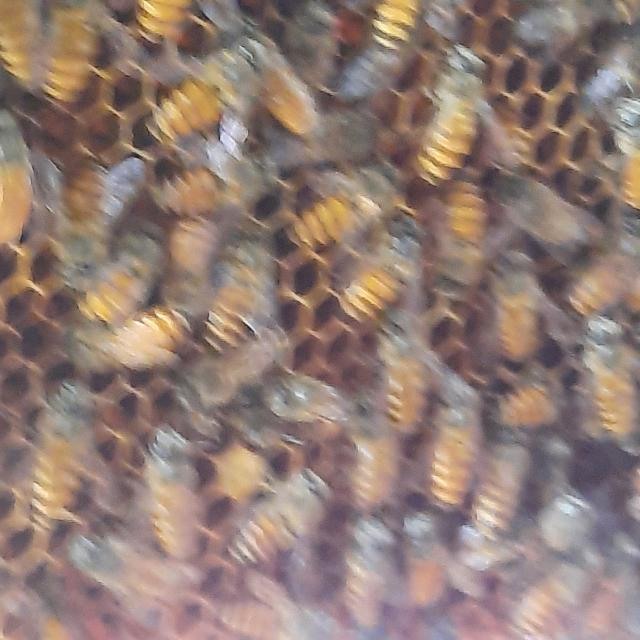honeybee: (414, 46, 493, 186), (153, 36, 259, 138), (234, 449, 322, 570), (73, 530, 197, 614), (39, 158, 125, 278), (490, 159, 591, 257), (238, 12, 314, 136), (276, 170, 396, 241), (144, 428, 208, 561), (238, 372, 356, 441), (28, 396, 92, 522), (335, 235, 423, 322), (212, 245, 276, 364), (584, 314, 640, 442), (188, 335, 284, 409), (70, 302, 190, 361), (523, 0, 640, 57), (78, 230, 160, 310), (498, 255, 554, 369), (398, 515, 456, 621), (42, 0, 98, 109), (340, 517, 396, 624), (476, 443, 542, 530), (427, 399, 481, 505), (505, 562, 582, 636), (171, 160, 263, 220), (576, 235, 639, 317), (349, 404, 400, 505), (226, 599, 342, 640), (0, 0, 48, 98), (435, 179, 483, 272), (378, 329, 424, 421), (497, 375, 562, 426), (135, 0, 198, 50), (373, 0, 432, 52)
